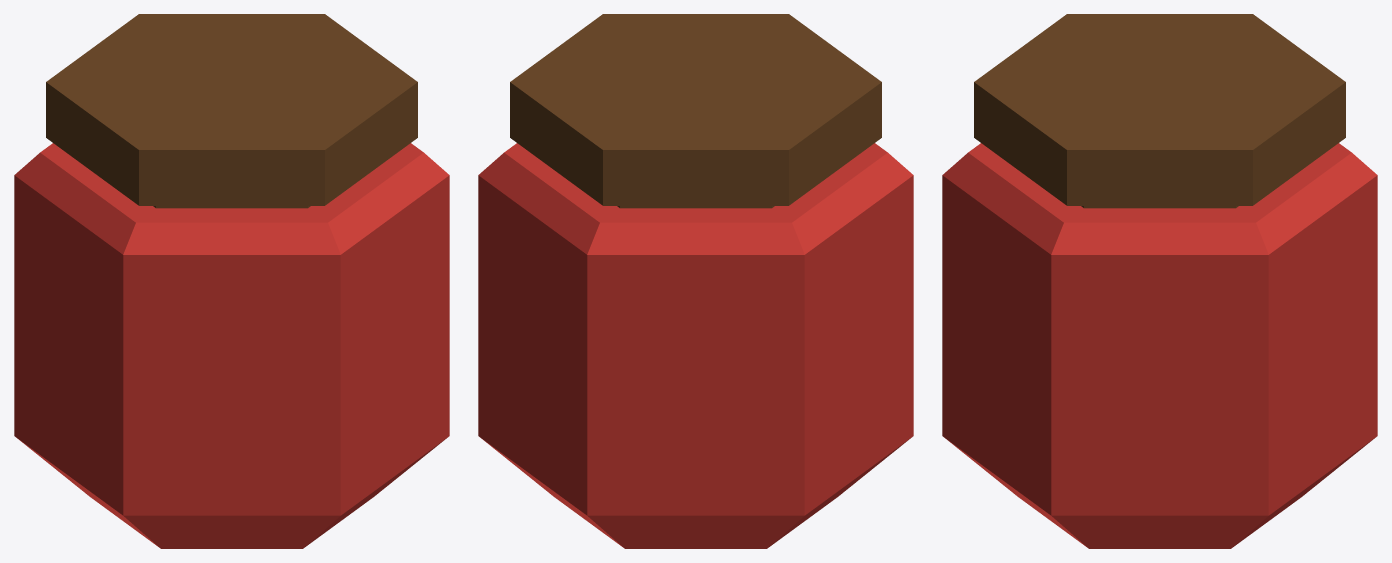
Rendered from Potion_4.fbx.
3 renders of one model, left to right at view 1: azimuth 30°, elevation 25°; view 2: azimuth 150°, elevation 25°; view 3: azimuth 270°, elevation 25°, orthographic.
Visible parts, largest first — view 1: Circle.004; view 2: Circle.004; view 3: Circle.004.
Part boxes in pixels (left/top/right/bottom): Circle.004: left=14, top=14, right=449, bottom=548; Circle.004: left=478, top=14, right=913, bottom=548; Circle.004: left=942, top=14, right=1377, bottom=548.
Size of the model in its own units: 16.83 by 20.45 by 19.44.
